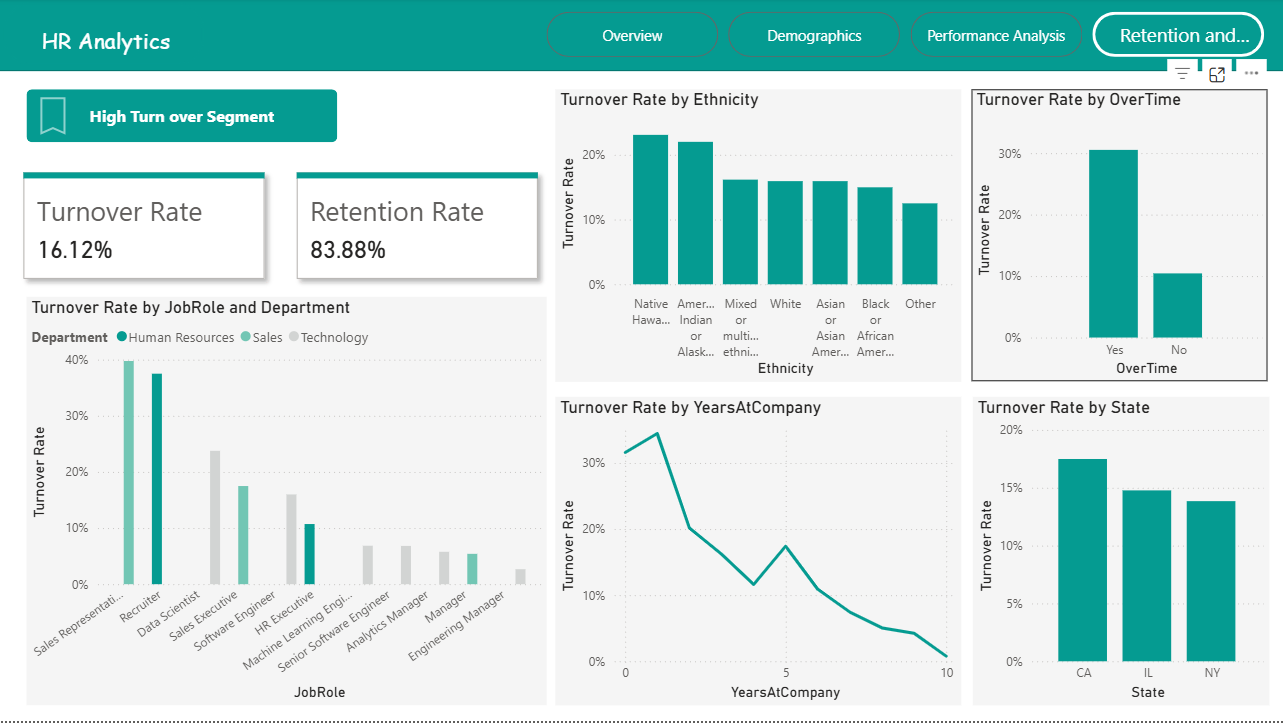

This screenshot's page, from the dashboard's own definition file:
{"tool":"powerbi","page":{"name":"Retention and Attrition Analysis","canvas":[1280,720],"ordinal":3},"visuals":[{"type":"shape","box":[0,0,1280.3,72.7],"z":0},{"type":"cardVisual","fields":{"Data":["_Measures.Turnover Rate","_Measures.Retention Rate"]},"box":[7.5,156.7,546.1,140.6],"z":1000},{"type":"clusteredColumnChart","fields":{"Category":["DimEmployee.Ethnicity"],"Y":["_Measures.Turnover Rate"]},"box":[553.6,90.8,404.3,291.1],"z":2000},{"type":"clusteredColumnChart","fields":{"Category":["DimEmployee.State"],"Y":["_Measures.Turnover Rate"]},"box":[969,396.8,294.8,307.3],"z":3000},{"type":"clusteredColumnChart","fields":{"Y":["_Measures.Turnover Rate"],"Category":["DimEmployee.JobRole"],"Series":["DimEmployee.Department"]},"box":[27.4,297.3,517.5,406.8],"z":4000},{"type":"clusteredColumnChart","fields":{"Category":["DimEmployee.OverTime"],"Y":["_Measures.Turnover Rate"]},"box":[967.8,90.8,294.8,291.1],"z":5000},{"type":"cardVisual","fields":{"Data":["_Measures.HR"]},"box":[0,0,209.9,72.7],"z":6000},{"type":"pageNavigator","box":[544.8,13.7,717.7,45.3],"z":7000},{"type":"actionButton","title":"High Turn over segment","box":[27.1,91.2,309.3,52.7],"z":8000},{"type":"lineChart","fields":{"Y":["_Measures.Turnover Rate"],"Category":["DimEmployee.YearsAtCompany"]},"box":[553.6,396.8,404.3,307.3],"z":10000}]}

Visuals, with their boxes on the page's 1280x720 design canvas (x1, y1, x2, y2). These are canvas units, not pixel positions in the 1283x723 screenshot, which may show the page scaled, cropped or inside an application window:
shape: <bbox>0, 0, 1280, 73</bbox>
cardVisual - _Measures.Turnover Rate x _Measures.Retention Rate: <bbox>8, 157, 554, 297</bbox>
clusteredColumnChart - DimEmployee.Ethnicity x _Measures.Turnover Rate: <bbox>554, 91, 958, 382</bbox>
clusteredColumnChart - DimEmployee.State x _Measures.Turnover Rate: <bbox>969, 397, 1264, 704</bbox>
clusteredColumnChart - _Measures.Turnover Rate x DimEmployee.JobRole: <bbox>27, 297, 545, 704</bbox>
clusteredColumnChart - DimEmployee.OverTime x _Measures.Turnover Rate: <bbox>968, 91, 1263, 382</bbox>
cardVisual - _Measures.HR: <bbox>0, 0, 210, 73</bbox>
pageNavigator: <bbox>545, 14, 1262, 59</bbox>
"High Turn over segment" actionButton: <bbox>27, 91, 336, 144</bbox>
lineChart - _Measures.Turnover Rate x DimEmployee.YearsAtCompany: <bbox>554, 397, 958, 704</bbox>
